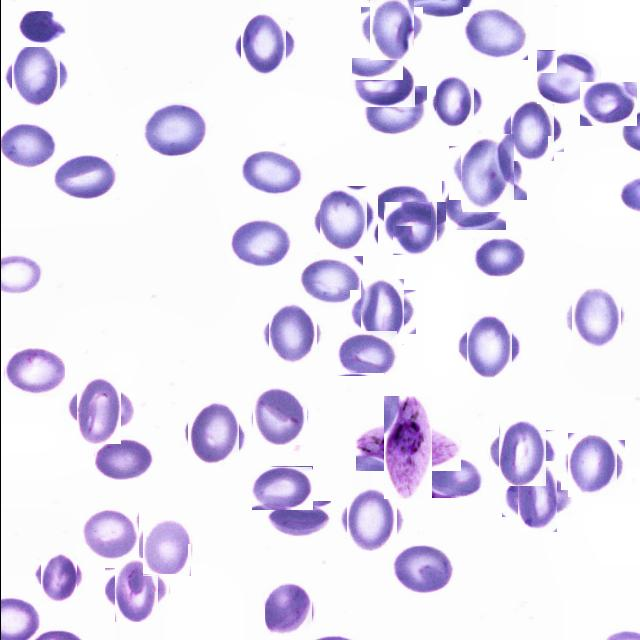red blood cell: (454, 140, 520, 206), (141, 99, 210, 158), (182, 404, 244, 464), (462, 6, 528, 60), (536, 50, 600, 104), (228, 216, 294, 268), (314, 192, 372, 250), (69, 379, 127, 437), (342, 490, 399, 548), (6, 47, 64, 104), (563, 436, 620, 494), (363, 85, 427, 136), (566, 290, 624, 346), (298, 256, 362, 306), (351, 57, 415, 107), (389, 545, 453, 594), (441, 181, 505, 230), (264, 305, 320, 361), (461, 318, 517, 374), (508, 469, 564, 525), (494, 426, 550, 482), (53, 153, 119, 200), (250, 388, 306, 443), (354, 284, 409, 340), (80, 509, 138, 560), (240, 150, 305, 195), (109, 563, 163, 617), (139, 520, 193, 574), (364, 2, 418, 56), (236, 18, 290, 72), (4, 348, 64, 396), (418, 454, 482, 498), (388, 198, 440, 252), (336, 330, 397, 376), (506, 104, 558, 156), (251, 466, 312, 510), (94, 437, 156, 480), (262, 584, 312, 636), (579, 82, 636, 126), (261, 501, 330, 537), (374, 184, 430, 226), (431, 80, 478, 127), (472, 238, 525, 278), (14, 11, 68, 47), (36, 554, 80, 598)
trophozoite: (369, 409, 445, 485)
